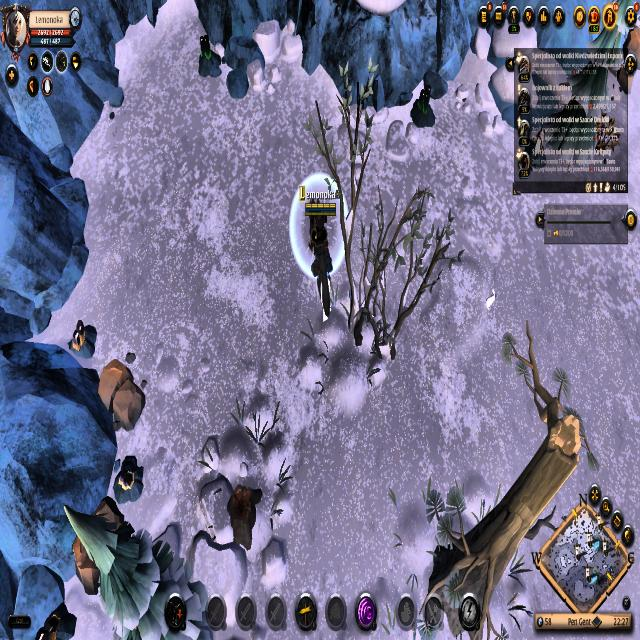ore tier 2: (112, 448, 148, 509), (69, 319, 99, 363)
ore tier 3: (409, 82, 438, 136), (197, 30, 223, 84)
rock tier 2: (96, 354, 150, 434)
